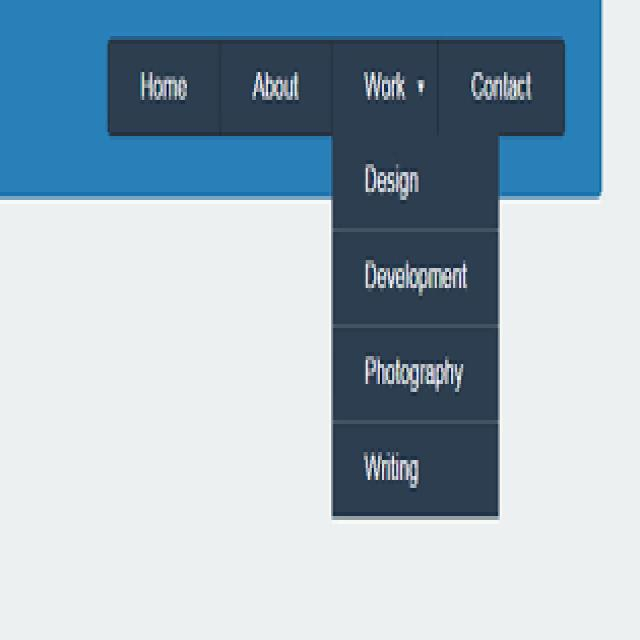buttons: (339, 236, 492, 316), (350, 426, 489, 508), (352, 334, 486, 411), (108, 39, 220, 129), (446, 46, 563, 129), (337, 159, 488, 219), (225, 46, 328, 127), (346, 52, 436, 116)
dropdown: (414, 70, 426, 102)
